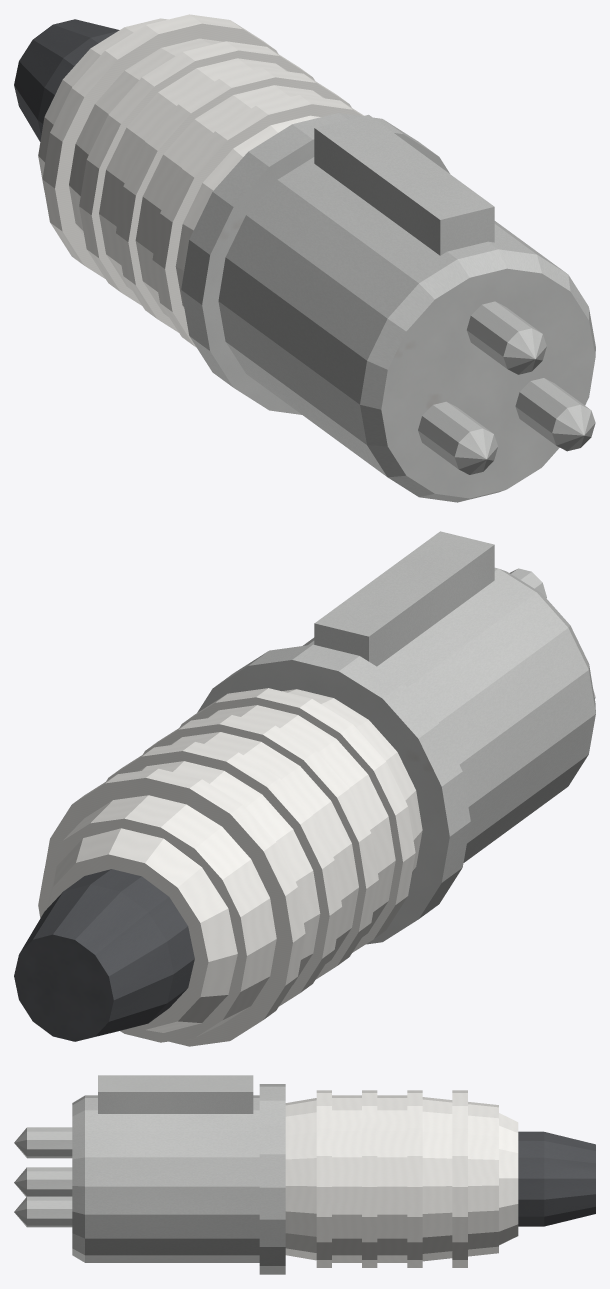
Rendered from busplug.gltf.
3 renders of one model, top to bottom at view 1: azimuth 30°, elevation 25°; view 2: azimuth 150°, elevation 25°; view 3: azimuth 270°, elevation 25°, orthographic. The views are drawn at different scales.
Parts seen in each view (by area): view 1: jx_busplug; view 2: jx_busplug; view 3: jx_busplug.
Part boxes in pixels (<box>): jx_busplug: <box>14,14,595,502</box>; jx_busplug: <box>14,531,595,1046</box>; jx_busplug: <box>14,1075,595,1274</box>.
Bounding box in the file's own units: 0.296 × 0.3088 × 0.9.
Materials: 3 (3 with a texture image).
